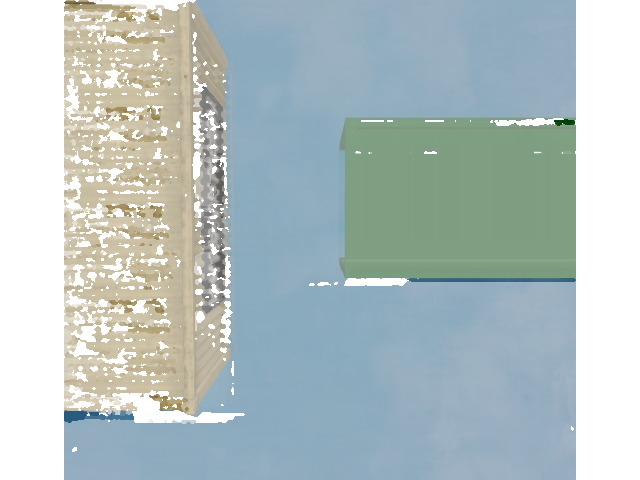container2: (332, 116, 640, 281)
container3: (14, 0, 242, 422)
